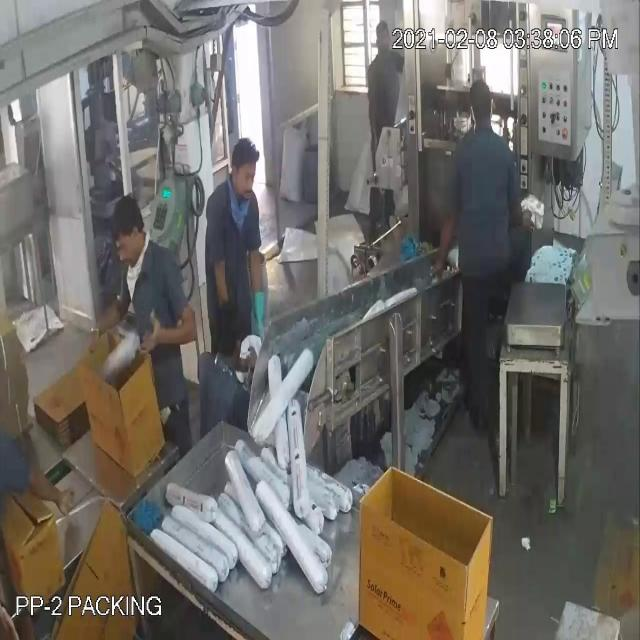No_Gloves: (30, 69, 260, 334)
